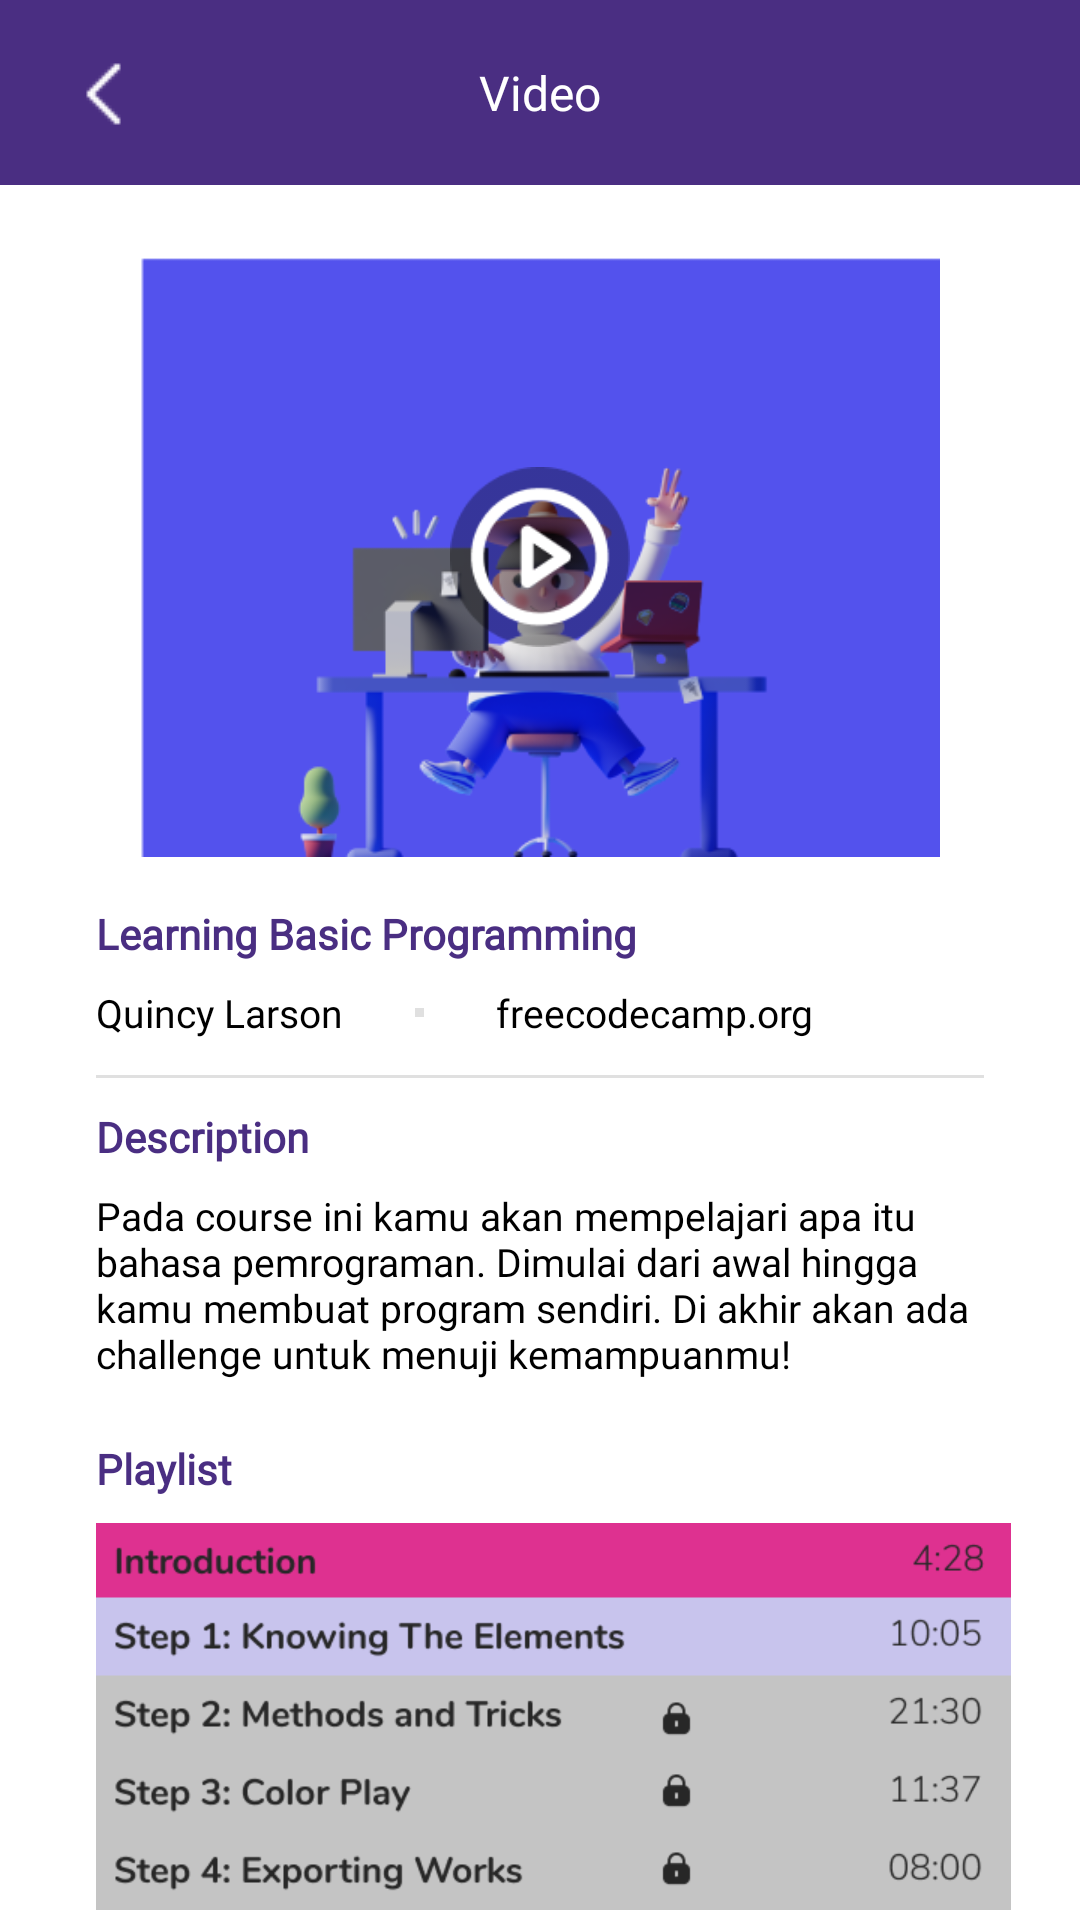

Screen size 1080w x 1920h. Icon name, then its center in pixels as (x=x, y=y):
back: (x=103, y=94)
play: (x=540, y=557)
